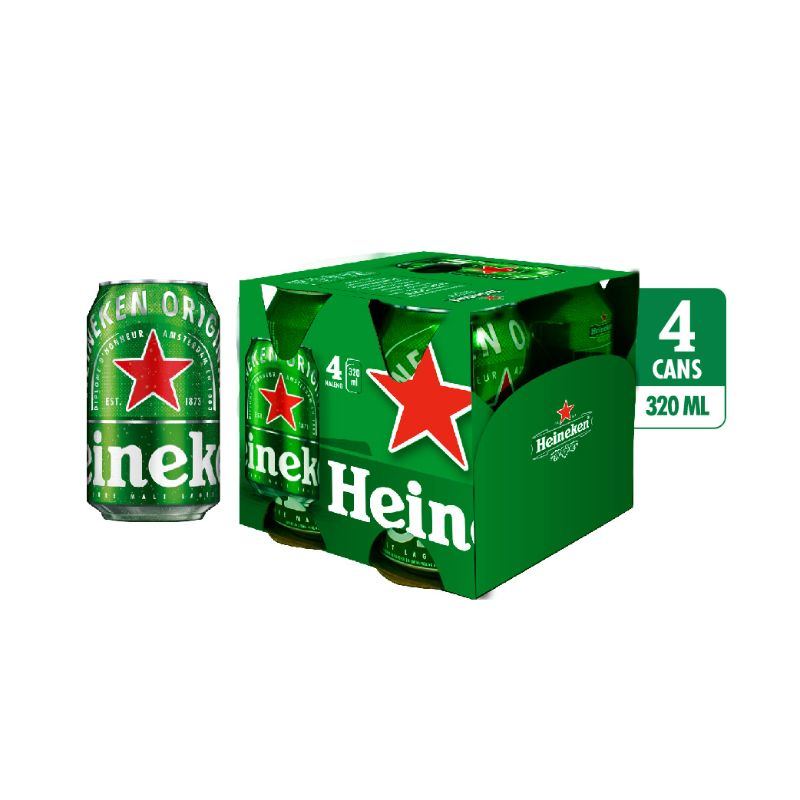cylinder: (87, 279, 220, 522)
